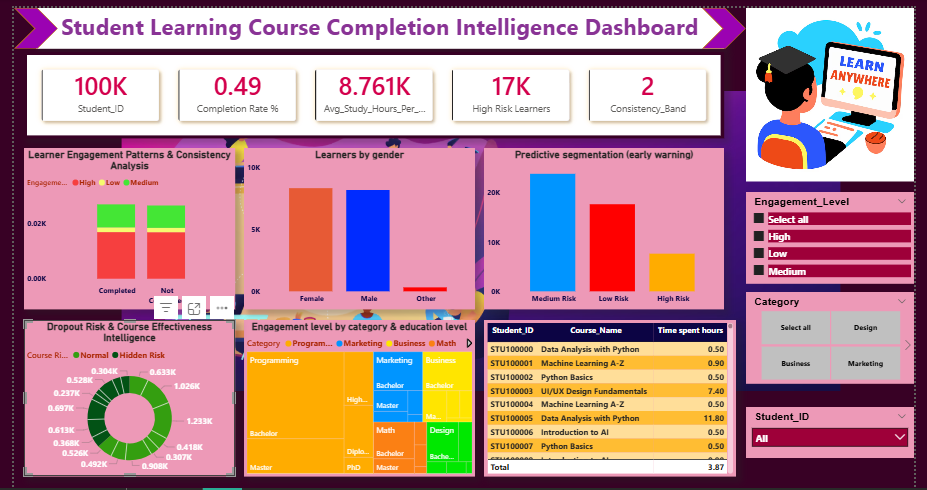

The dashboard page shown, as its layout file describes it:
{"tool":"powerbi","page":{"name":"Page 1","canvas":[1500,800],"ordinal":0},"visuals":[{"type":"textbox","box":[36.5,0,1146.9,68],"z":0},{"type":"shape","box":[0,0,73,68],"z":2000},{"type":"image","box":[1219.9,0,280.5,288.8],"z":3000},{"type":"shape","box":[1146.9,0,73,68],"z":4000},{"type":"cardVisual","fields":{"Data":["Count(Sheet1.Student_ID)","Sheet1.Completion Rate %","Sum(Sheet1.Avg_Study_Hours_Per_Day)","Sheet1.High Risk Learners","Count(Sheet1.Consistency_Band)"]},"box":[16.6,73,1166.8,144.4],"z":5000},{"type":"columnChart","title":"Learner Engagement Patterns & Consistency Analysis","fields":{"Y":["Sheet1.Avg Study Hours"],"Series":["Sheet1.Engagement_Level"],"Category":["Sheet1.Completed"]},"box":[16.6,234,351.9,268.9],"z":5002},{"type":"donutChart","title":"Dropout Risk & Course Effectiveness Intelligence","fields":{"Category":["Sheet1.Course Risk Flag"],"Series":["Sheet1.Course_Name"],"Y":["Sum(Sheet1.Avg_Study_Hours_Per_Day)"]},"box":[16.6,519.5,351.9,260.6],"z":5003},{"type":"clusteredColumnChart","title":"Learners by gender","fields":{"Y":["Sheet1.High Risk Learners"],"Category":["Sheet1.Gender"]},"box":[383.4,234,385.1,268.9],"z":5004},{"type":"columnChart","title":"Predictive segmentation (early warning)","fields":{"Category":["Sheet1.Risk_Category"],"Y":["Sum(Sheet1.Completed_Flag)"]},"box":[783.4,234,400,268.9],"z":5006},{"type":"treemap","title":"Engagement level by category & education level ","fields":{"Group":["Sheet1.Category"],"Details":["Sheet1.Education_Level"],"Values":["CountNonNull(Sheet1.Engagement_Level)"]},"box":[383,520,385,261],"z":5007},{"type":"slicer","fields":{"Values":["Sheet1.Engagement_Level"]},"box":[1219.9,307.1,280.5,152.7],"z":5008},{"type":"slicer","fields":{"Values":["Sheet1.Category"]},"box":[1219.9,473,280.5,152.7],"z":5009},{"type":"slicer","fields":{"Values":["Sheet1.Student_ID"]},"box":[1219.9,665.6,280.5,84.6],"z":5010},{"type":"tableEx","fields":{"Values":["Sheet1.Student_ID","Sheet1.Course_Name","Avg(Sheet1.Time_Spent_Hours)"]},"box":[783.4,519.5,419.9,260.6],"z":5011}]}

Visuals, with their boxes in screenshot pixels (x1, y1, x2, y2), scaled from the page's 1500x800 canvas onto the 927x490 screenshot:
textbox: (23,0,731,42)
shape: (0,0,45,42)
image: (754,0,926,177)
shape: (709,0,754,42)
cardVisual - Count(Sheet1.Student_ID) x Sheet1.Completion Rate %: (10,45,731,133)
"Learner Engagement Patterns & Consistency Analysis" columnChart: (10,143,228,308)
"Dropout Risk & Course Effectiveness Intelligence" donutChart: (10,318,228,478)
"Learners by gender" clusteredColumnChart: (237,143,475,308)
"Predictive segmentation (early warning)" columnChart: (484,143,731,308)
"Engagement level by category & education level " treemap: (237,318,475,478)
slicer - Sheet1.Engagement_Level: (754,188,926,282)
slicer - Sheet1.Category: (754,290,926,383)
slicer - Sheet1.Student_ID: (754,408,926,459)
tableEx - Sheet1.Student_ID x Sheet1.Course_Name: (484,318,744,478)
